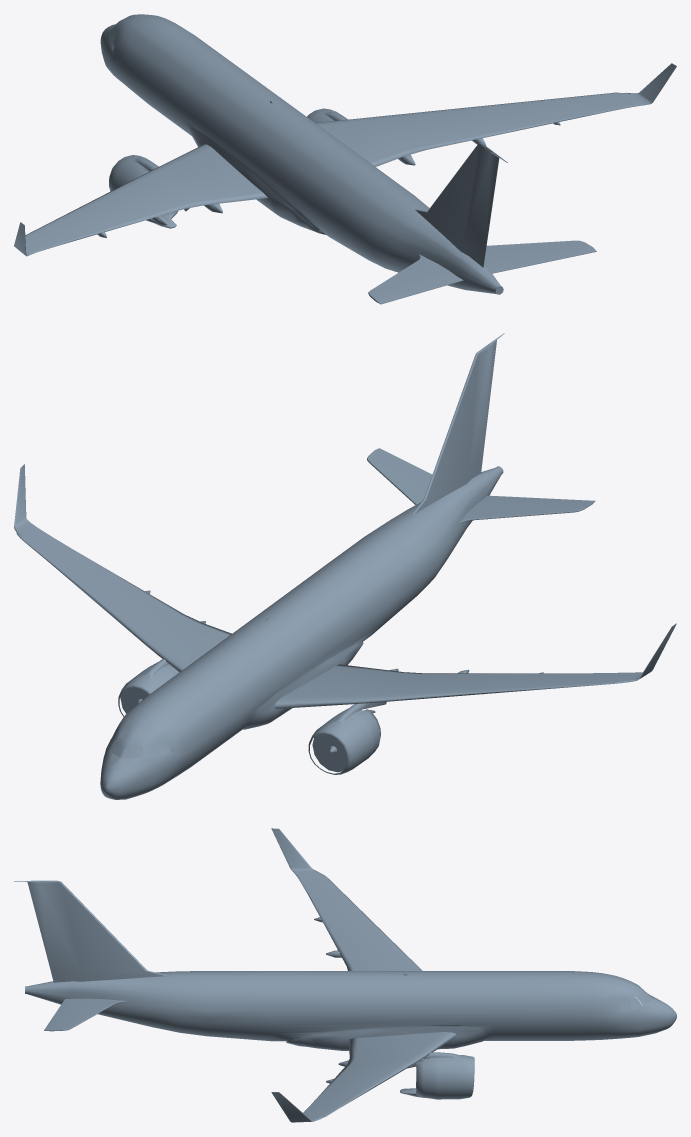
3 views of the same model, one above another, from view 1: azimuth 30°, elevation 25°; view 2: azimuth 150°, elevation 25°; view 3: azimuth 270°, elevation 25° (orthographic). The views are drawn at different scales.
Parts seen in each view (by area): view 1: body; view 2: body; view 3: body.
Part boxes in pixels (left/top/right/bottom): body: left=14, top=14, right=676, bottom=304; body: left=14, top=333, right=676, bottom=799; body: left=14, top=828, right=676, bottom=1122.
Bounding box in the file's own units: 35.48 × 11.32 × 37.68.
